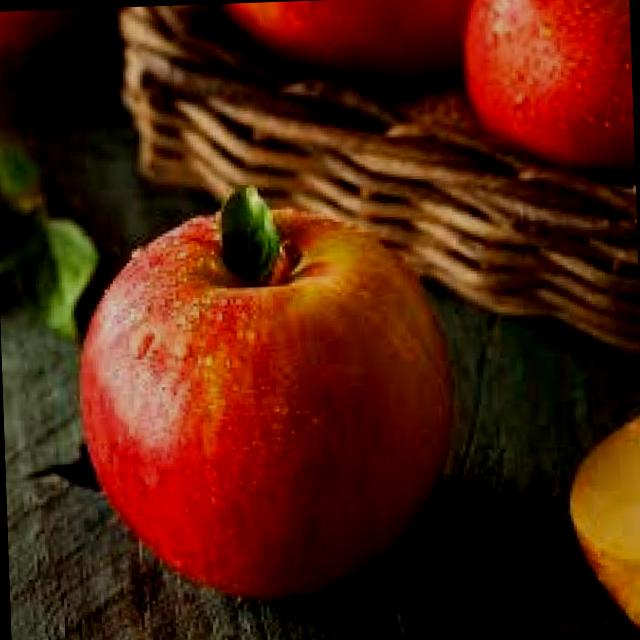Apple: (69, 175, 459, 606), (455, 0, 635, 198), (204, 0, 462, 97)
